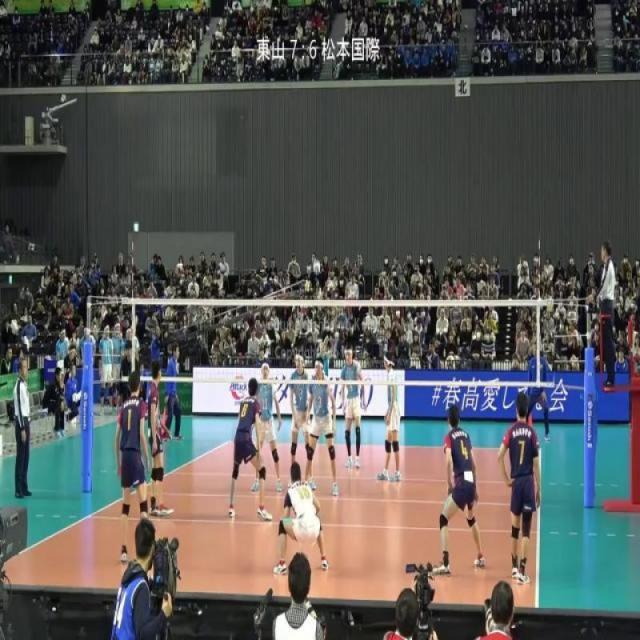volleyball: (313, 257, 321, 276)
